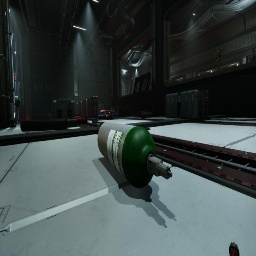0: (98, 122, 172, 189)
EmergencyPhone ,: (14, 59, 16, 73)
FireAlarm ,: (15, 72, 16, 81)
FireExtinguisher ]: (71, 114, 88, 125), (100, 110, 107, 114)
FirstAidBox ,: (104, 110, 114, 120)
NitrogenTank ,: (140, 110, 153, 118)
SafetySwitchPanel ,: (8, 65, 8, 67)
